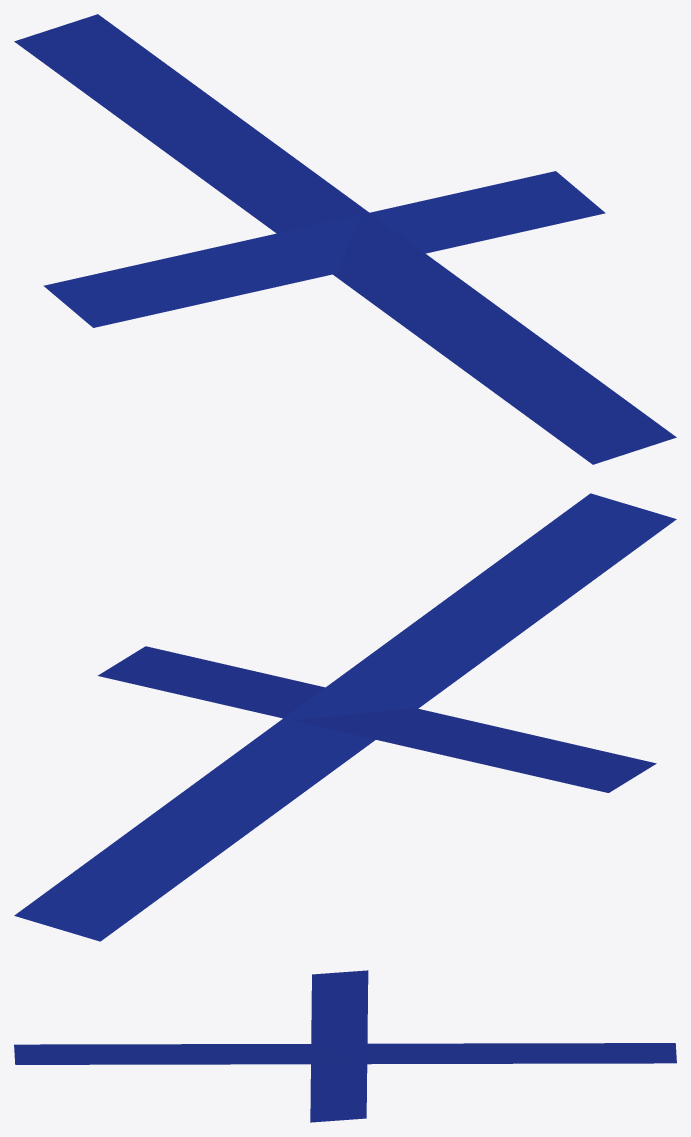
The model's file is River.dae.
The picture shows the model from 3 angles, top to bottom: view 1: azimuth 30°, elevation 25°; view 2: azimuth 150°, elevation 25°; view 3: azimuth 270°, elevation 25°; orthographic projection. The views are drawn at different scales.
Visible parts, largest first — view 1: Irrigation, Irrigation_001; view 2: Irrigation, Irrigation_001; view 3: Irrigation, Irrigation_001.
Boxes of the visible parts, bbox=[...] form: Irrigation: bbox=[14, 14, 676, 464]; Irrigation_001: bbox=[43, 171, 605, 327]; Irrigation: bbox=[14, 493, 676, 941]; Irrigation_001: bbox=[97, 646, 656, 792]; Irrigation: bbox=[14, 1043, 676, 1064]; Irrigation_001: bbox=[310, 970, 368, 1122].
Size of the model in its own units: 1.4 by 2.74 by 0.0403.
